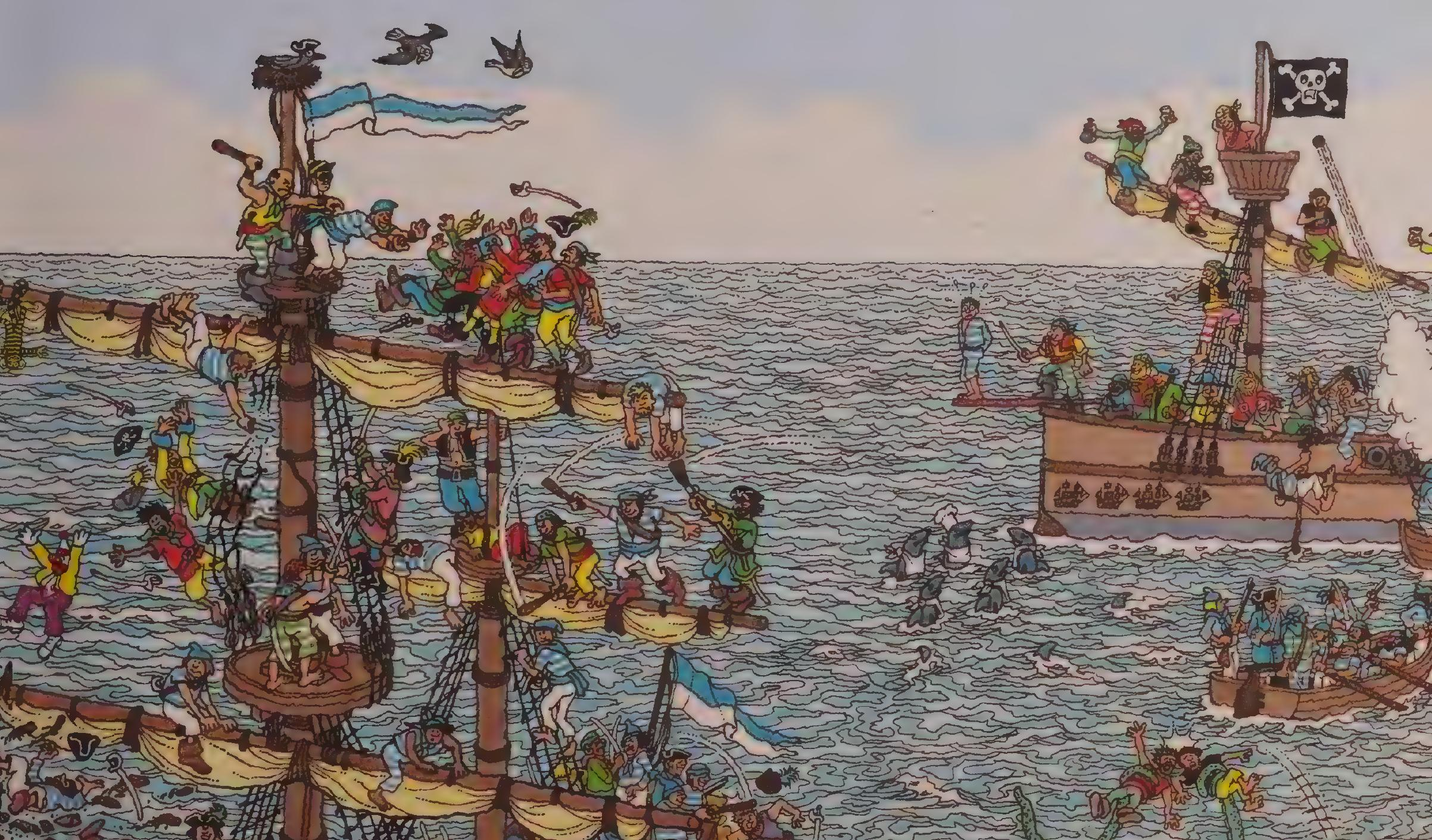waldo: (306, 160, 334, 197)
